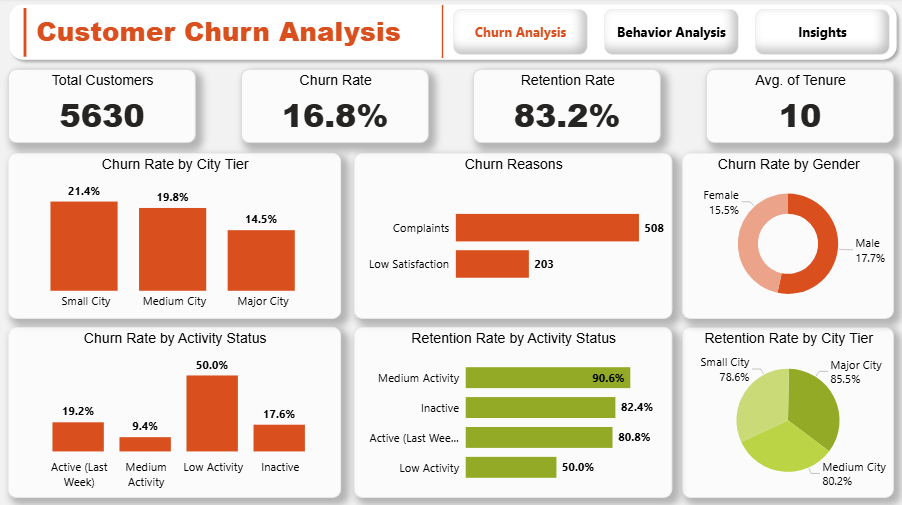

This screenshot's page, from the dashboard's own definition file:
{"tool":"powerbi","page":{"name":"Churn Analysis","canvas":[1280,720],"ordinal":0},"visuals":[{"type":"shape","box":[4.3,0,1275.6,96.4],"z":0,"group":"g1"},{"type":"card","title":"Total Customers","fields":{"Values":["All_Measures.Total Customers"]},"box":[11.3,100.6,266.5,104.9],"z":0},{"type":"textbox","box":[17.1,15.6,585.4,65.2],"z":1000,"group":"g1"},{"type":"card","title":"Churn Rate","fields":{"Values":["All_Measures.Churn Rate"]},"box":[341.1,100.6,266.5,104.9],"z":1000},{"type":"shape","box":[15.6,14.2,39.7,69.4],"z":2000,"group":"g1"},{"type":"card","title":"Retention Rate","fields":{"Values":["All_Measures.Retention Rate"]},"box":[670.9,100.6,266.5,104.9],"z":2000},{"type":"actionButton","box":[642.1,15.6,191.3,65.2],"z":3000,"group":"g1"},{"type":"card","title":"Avg. of Tenure","fields":{"Values":["All_Measures.Avg Tenure"]},"box":[1000.6,100.6,266.5,104.9],"z":3000},{"type":"shape","box":[619.4,9.9,15.6,75.1],"z":4000,"group":"g1"},{"type":"clusteredColumnChart","fields":{"Category":["Ecommerce_Data.City Tier"],"Y":["All_Measures.Churn Rate"]},"box":[11.3,219.7,472,235.3],"z":4000},{"type":"actionButton","box":[856.1,15.6,191.3,65.2],"z":5000,"group":"g1"},{"type":"clusteredBarChart","title":"Churn Reasons","fields":{"Category":["Reasons Table.Reason"],"Y":["All_Measures.Churn Reason Count"]},"box":[501.7,219.7,450.7,235.3],"z":5000},{"type":"actionButton","box":[1070.1,15.6,191.3,65.2],"z":6000,"group":"g1"},{"type":"pieChart","fields":{"Category":["Ecommerce_Data.City Tier"],"Y":["All_Measures.Retention Rate"]},"box":[966.6,466.3,300.5,242.4],"z":6000},{"type":"clusteredColumnChart","fields":{"Category":["Activity Status Table.Activity Status"],"Y":["All_Measures.Churn Rate"]},"box":[11.3,466.3,472,242.4],"z":7000},{"type":"clusteredBarChart","title":"Retention Rate by Activity Status","fields":{"Y":["All_Measures.Retention Rate"],"Category":["Activity Status Table.Activity Status"]},"box":[501.7,466.3,450.7,242.4],"z":8000},{"type":"donutChart","title":"Churn Rate by Gender","fields":{"Category":["Ecommerce_Data.Sex"],"Y":["All_Measures.Churn Rate"]},"box":[966.6,219.7,300.5,235.3],"z":9000},{"type":"group","id":"g1","title":"Group 1","box":[4.3,0,1275.6,96.4],"z":10000}]}

Visuals, with their boxes in screenshot pixels (x1, y1, x2, y2), scaled from the page's 1280x720 canvas onto the 902x505 screenshot:
shape: locate(3, 0, 901, 68)
"Total Customers" card: locate(8, 71, 196, 144)
textbox: locate(12, 11, 425, 57)
"Churn Rate" card: locate(240, 71, 428, 144)
shape: locate(11, 10, 39, 59)
"Retention Rate" card: locate(473, 71, 661, 144)
actionButton: locate(452, 11, 587, 57)
"Avg. of Tenure" card: locate(705, 71, 893, 144)
shape: locate(436, 7, 447, 60)
clusteredColumnChart - Ecommerce_Data.City Tier x All_Measures.Churn Rate: locate(8, 154, 341, 319)
actionButton: locate(603, 11, 738, 57)
"Churn Reasons" clusteredBarChart: locate(354, 154, 671, 319)
actionButton: locate(754, 11, 889, 57)
pieChart - Ecommerce_Data.City Tier x All_Measures.Retention Rate: locate(681, 327, 893, 497)
clusteredColumnChart - Activity Status Table.Activity Status x All_Measures.Churn Rate: locate(8, 327, 341, 497)
"Retention Rate by Activity Status" clusteredBarChart: locate(354, 327, 671, 497)
"Churn Rate by Gender" donutChart: locate(681, 154, 893, 319)
"Group 1" group: locate(3, 0, 901, 68)
